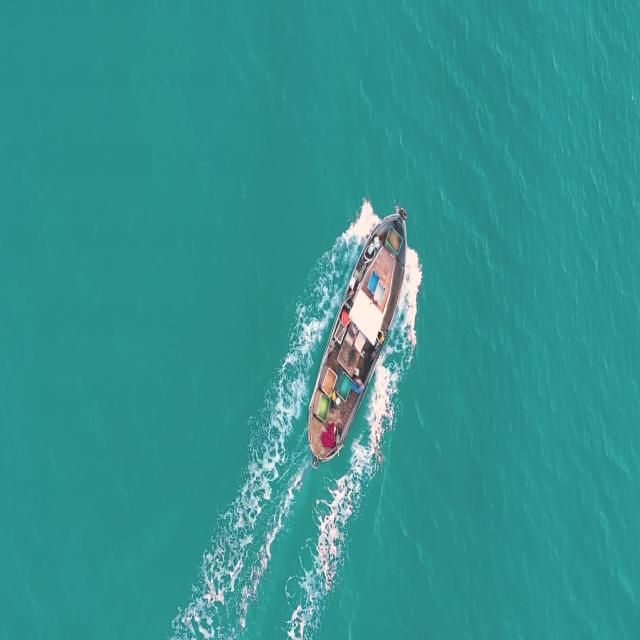ship: (302, 206, 413, 469)
